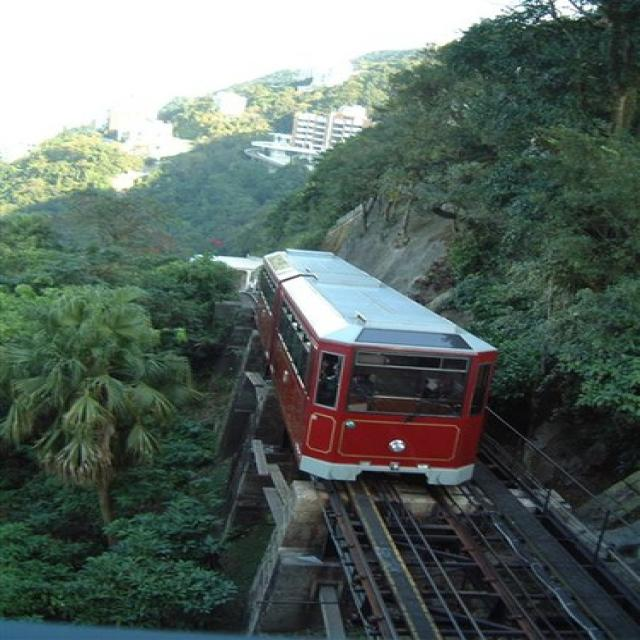train: (252, 248, 498, 485)
